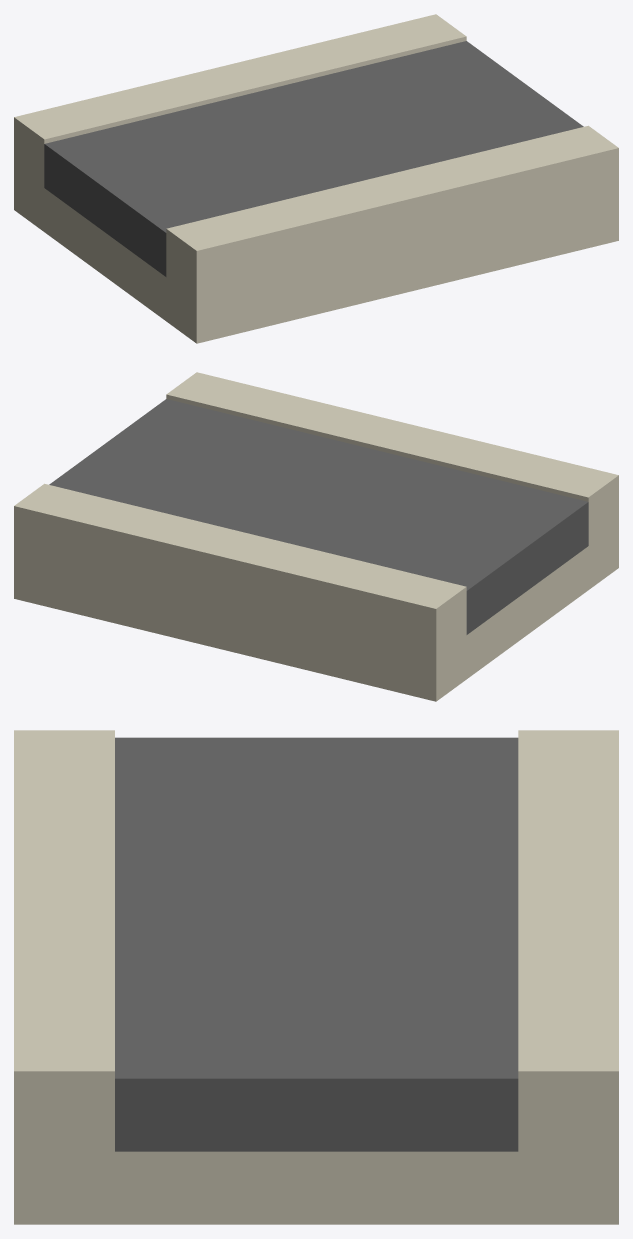
The model's file is tile195.fbx.
3 renders of one model, top to bottom at view 1: azimuth 30°, elevation 25°; view 2: azimuth 150°, elevation 25°; view 3: azimuth 270°, elevation 25°, orthographic. The views are drawn at different scales.
Parts seen in each view (by area): view 1: tile195; view 2: tile195; view 3: tile195.
Part boxes in pixels (x1,y1,x2,y2): tile195: (14, 14, 618, 343); tile195: (14, 372, 618, 701); tile195: (14, 730, 618, 1224).
Size of the model in its own units: 10 by 2.1 by 7.5.
